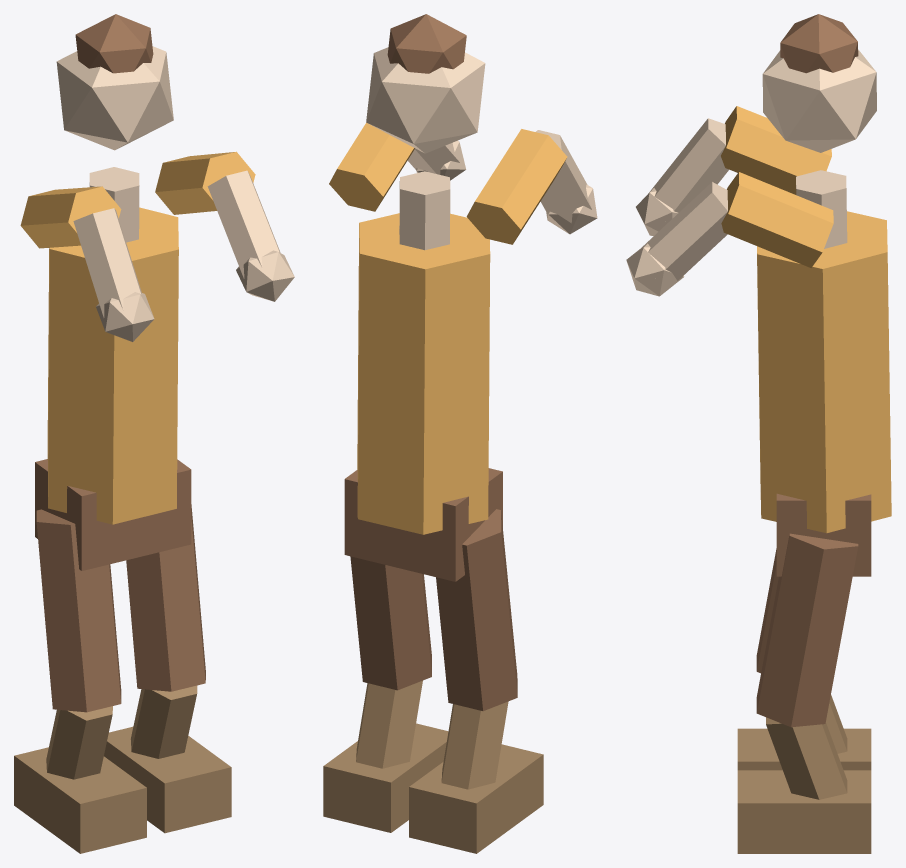
File: pose_idle_03.glb
3 views of the same model, side by side, from view 1: azimuth 30°, elevation 25°; view 2: azimuth 150°, elevation 25°; view 3: azimuth 270°, elevation 25° (orthographic).
Parts seen in each view (by area): view 1: pose; view 2: pose; view 3: pose.
Part boxes in pixels (box(x1,y1,x2,y2)): pose: box(14, 14, 294, 853); pose: box(323, 14, 597, 853); pose: box(626, 14, 891, 853).
Size of the model in its own units: 0.397 by 1.59 by 0.4756.
